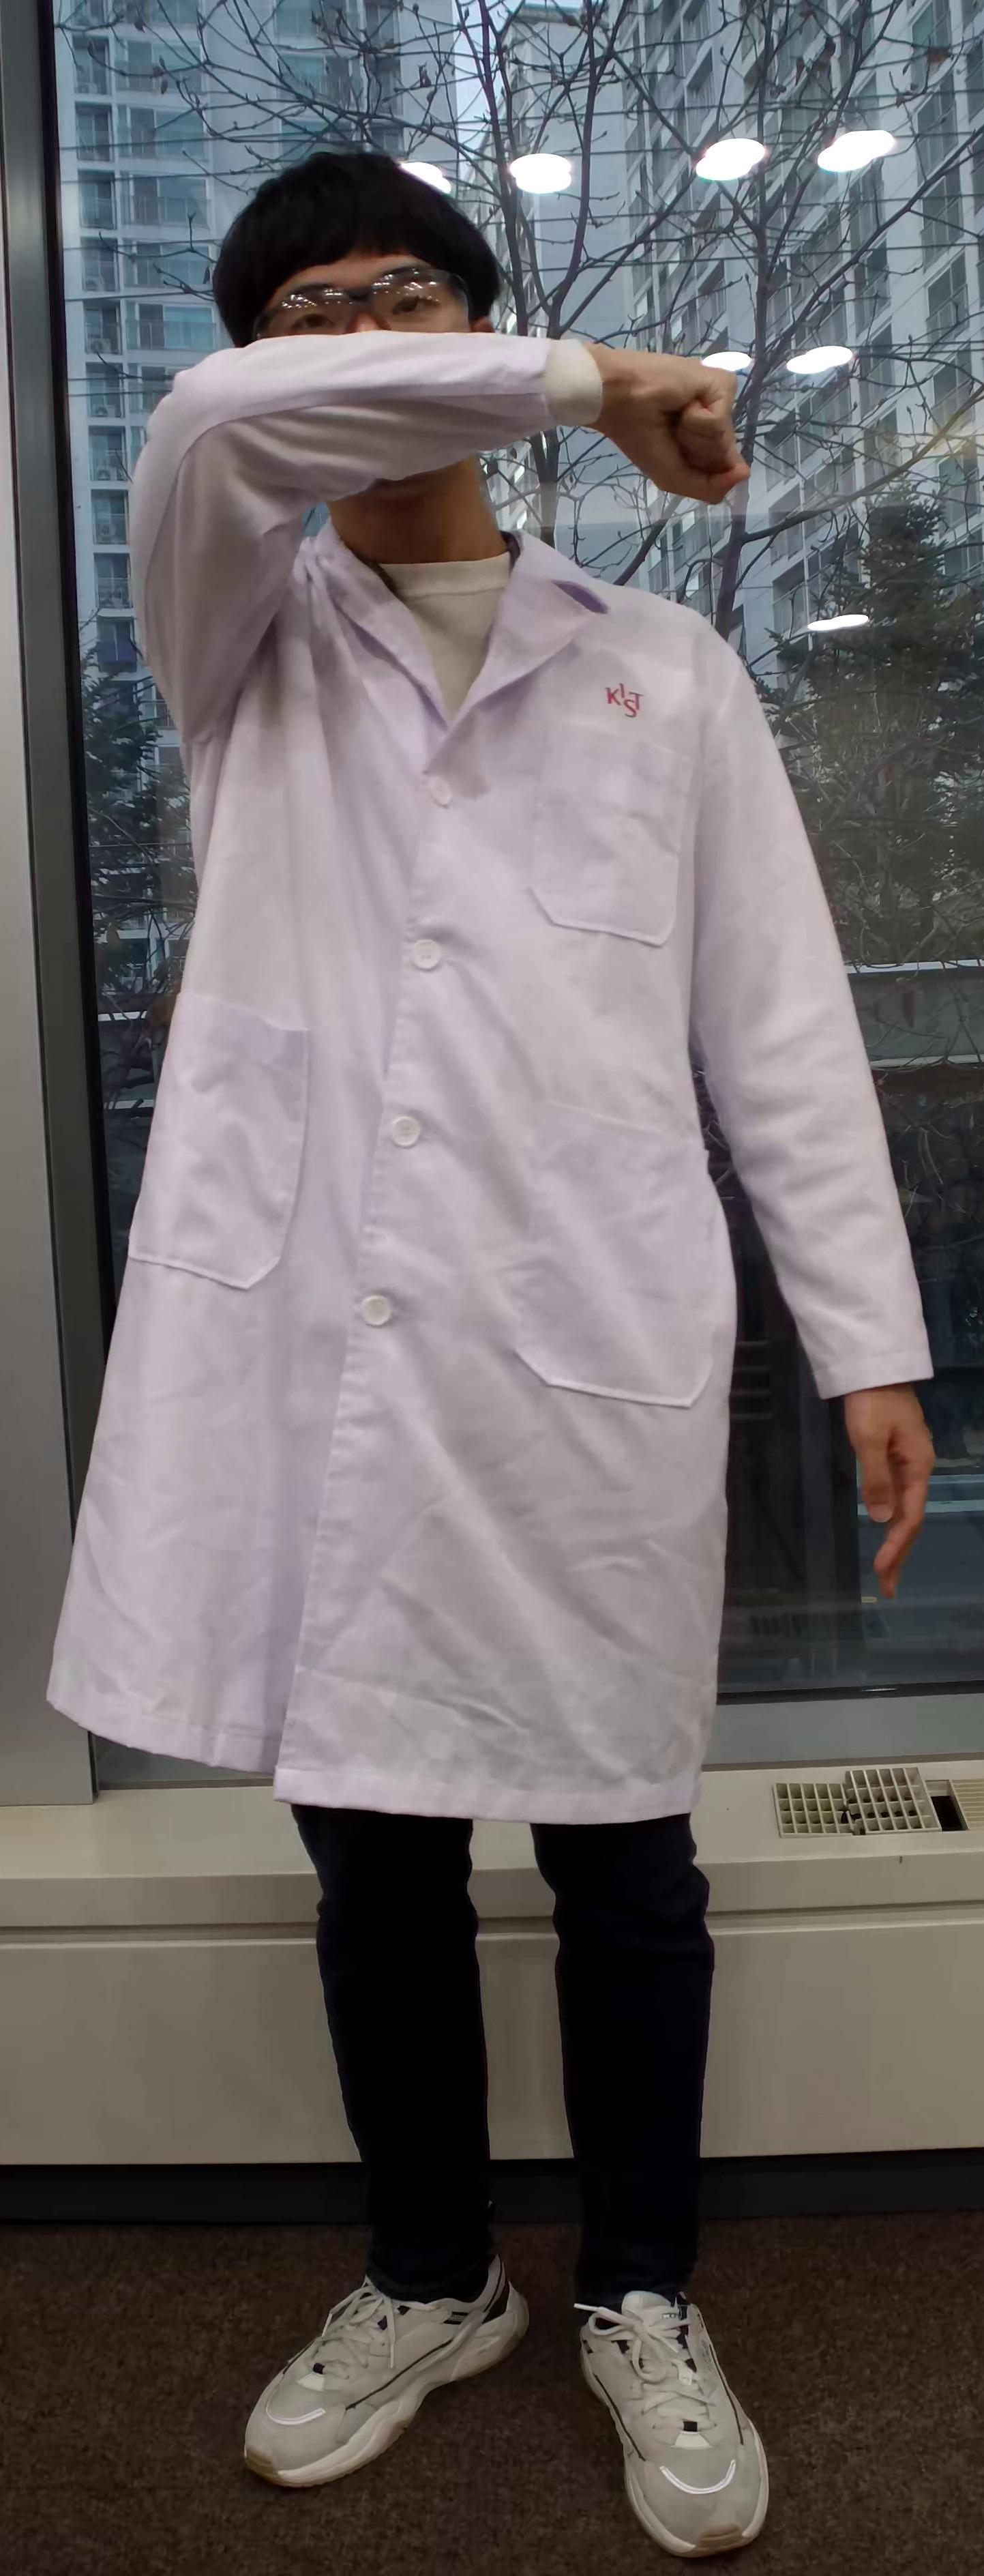lab_coat: (117, 567, 784, 1842)
